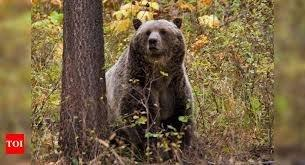bear: (105, 18, 195, 148)
